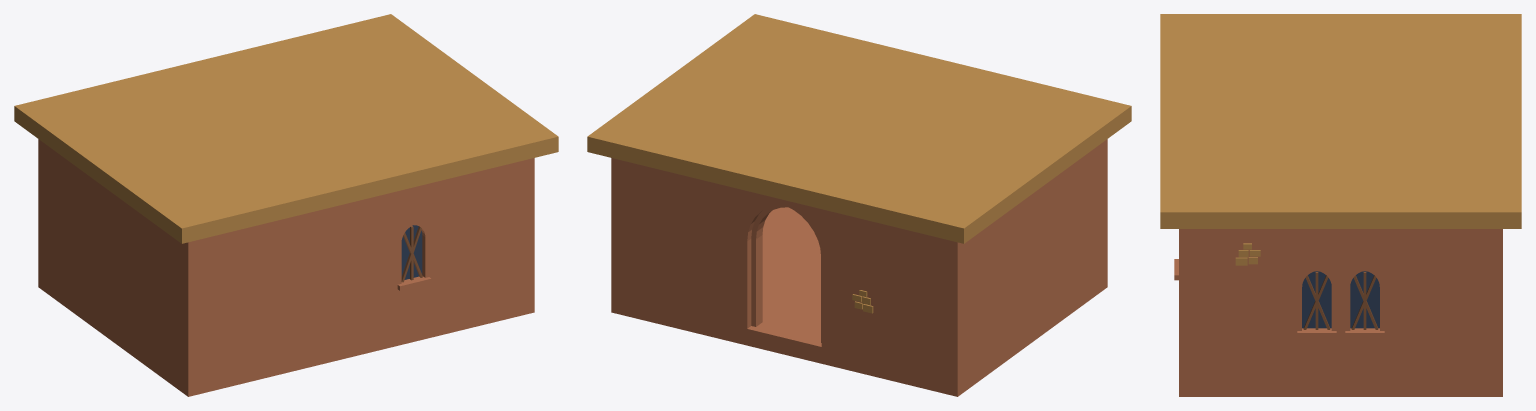
The model's file is house_wide.glb.
3 views of the same model, side by side, from view 1: azimuth 30°, elevation 25°; view 2: azimuth 150°, elevation 25°; view 3: azimuth 270°, elevation 25° (orthographic). The views are drawn at different scales.
Parts seen in each view (by area): view 1: roof-col, wall_back-col, wall_left-col, floor-col, wall_right-col, wall_front-col; view 2: roof-col, wall_front-col, wall_left-col, floor-col, wall_back-col, wall_right-col; view 3: roof-col, wall_right-col, floor-col, wall_back-col, wall_front-col.
Part boxes in pixels (box(x1,y1,x2,y2)): roof-col: box(14, 14, 558, 243); wall_back-col: box(177, 158, 534, 385); wall_left-col: box(38, 139, 206, 385); floor-col: box(38, 271, 534, 396); wall_right-col: box(516, 158, 534, 305); wall_front-col: box(38, 139, 48, 281); roof-col: box(587, 14, 1131, 243); wall_front-col: box(611, 158, 968, 385); wall_left-col: box(939, 147, 1107, 384); floor-col: box(611, 207, 1107, 396); wall_back-col: box(1097, 139, 1107, 282); wall_right-col: box(611, 158, 629, 305); roof-col: box(1160, 14, 1521, 228); wall_right-col: box(1179, 229, 1502, 384); floor-col: box(1179, 379, 1502, 396); wall_back-col: box(1174, 229, 1201, 384); wall_front-col: box(1480, 229, 1502, 384).
Bounding box in the file's own units: 8.7 × 3.94 × 6.7.
